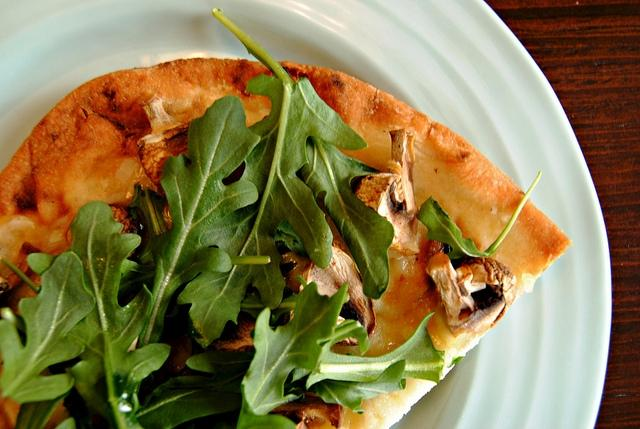mushroom: (354, 129, 420, 256), (426, 252, 506, 338), (302, 246, 376, 336), (138, 96, 190, 148), (207, 312, 256, 352)
